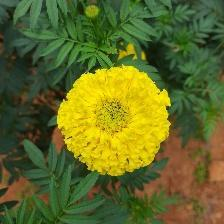marigold: (57, 64, 174, 178)
